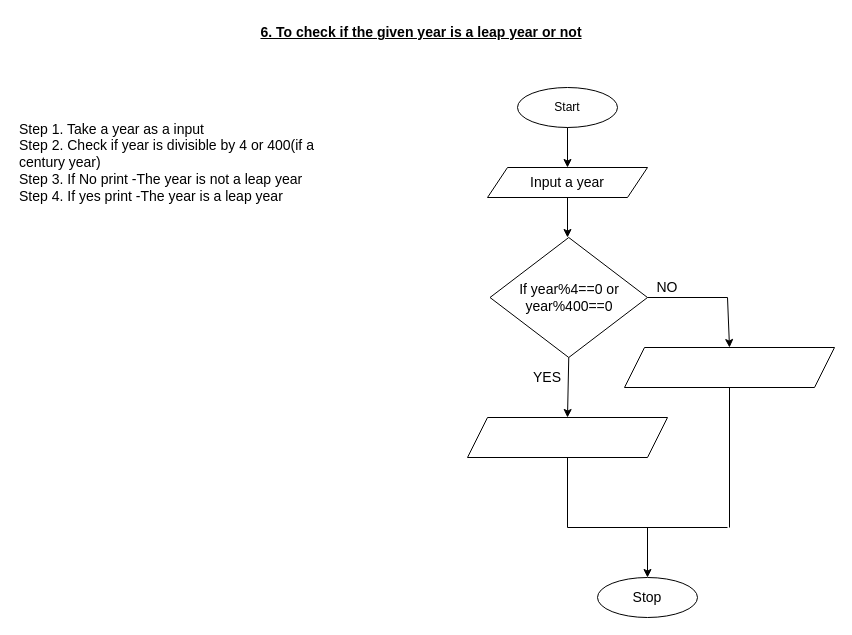
This 852x635 diagram has some shape labels left out. The centre of each missing label's shape, as x and y in pixels:
The year is a leap year: the point at 567,437
The year is not a leap year: the point at 729,367
